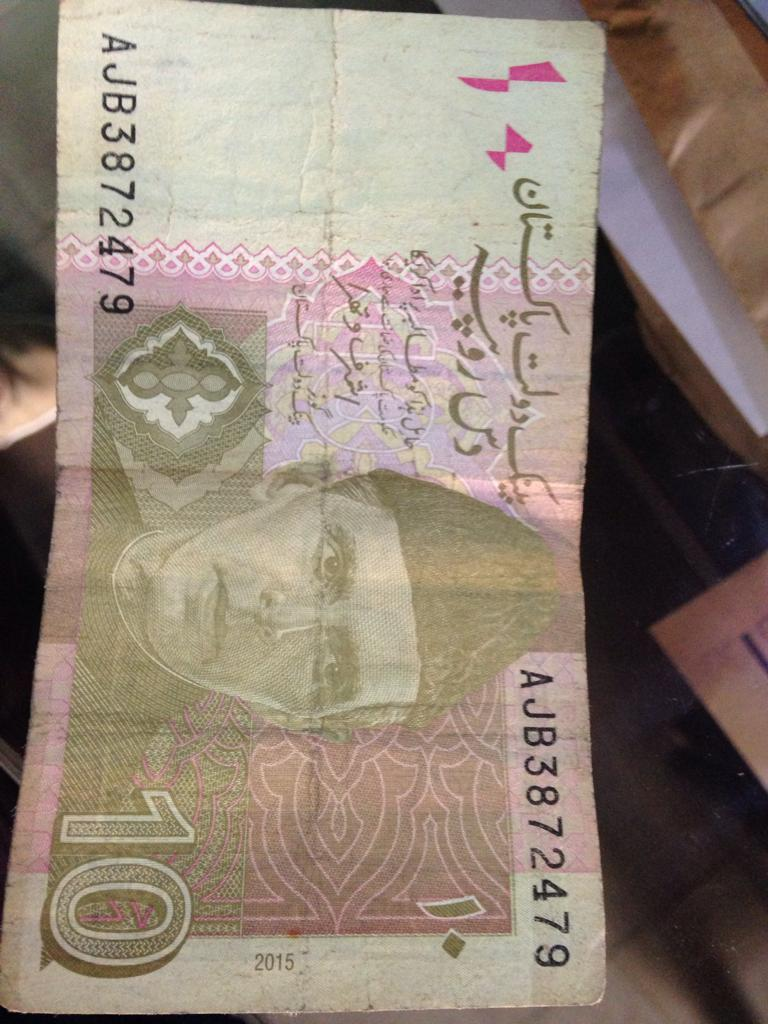10 rupee: (9, 13, 598, 1009)
